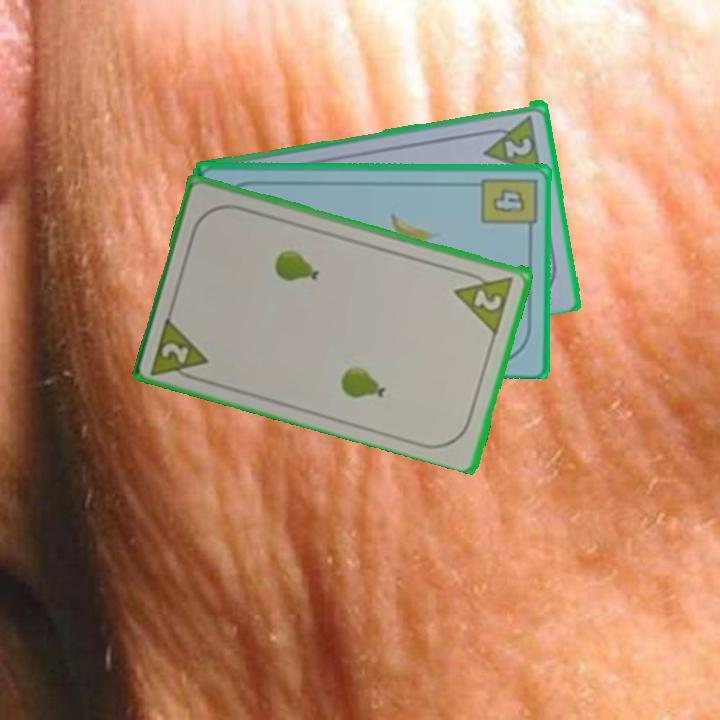2p: (147, 311, 212, 386), (451, 266, 517, 335), (478, 110, 544, 175)
4b: (478, 174, 539, 237)
